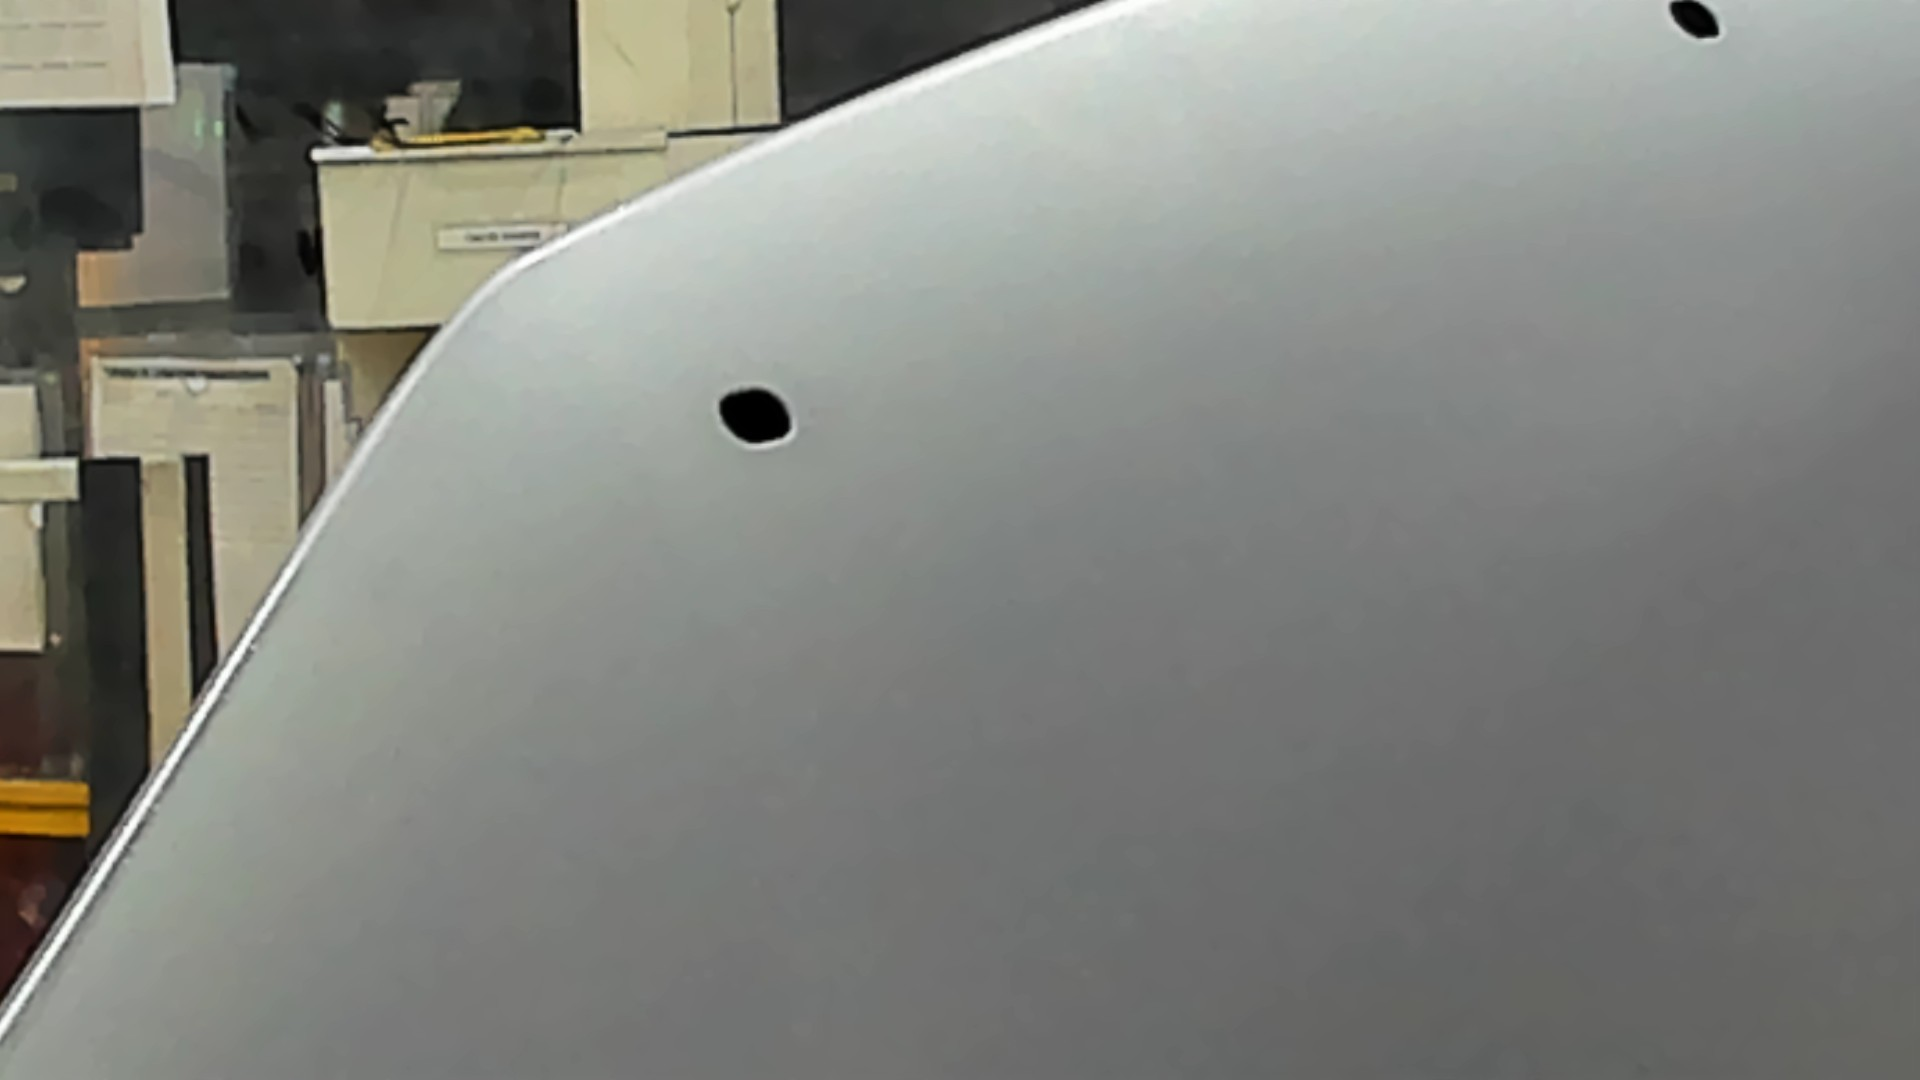Agujero: (716, 380, 796, 447), (1663, 1, 1722, 40)
